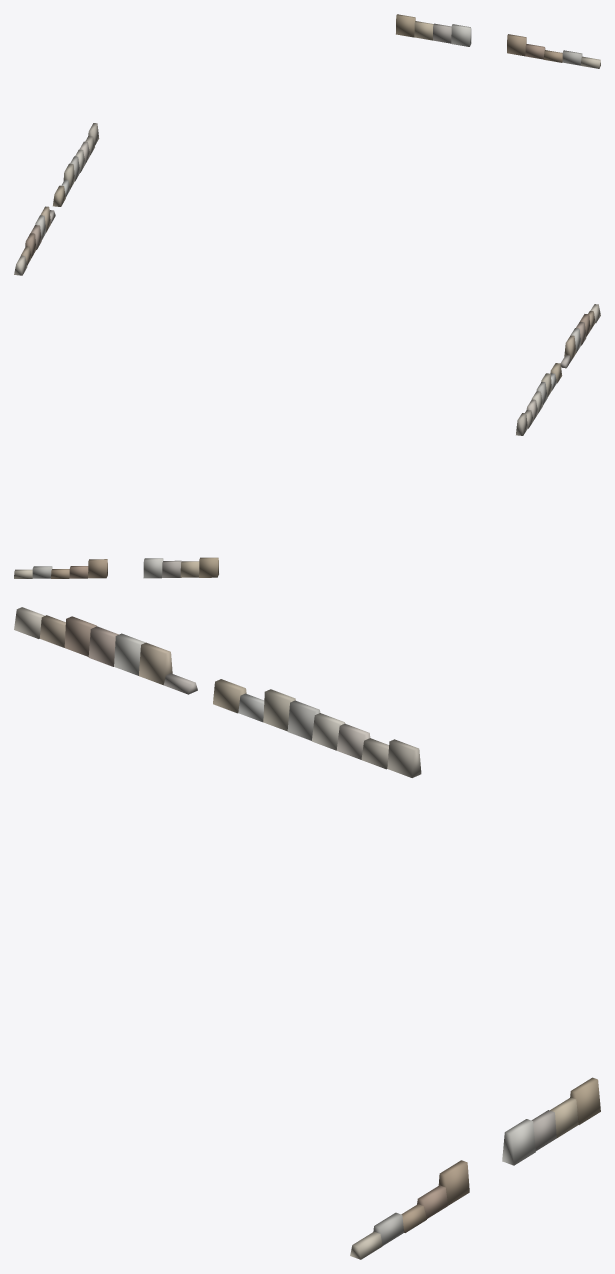
Rendered from farm_-50_-49_collision.glb.
The picture shows the model from 3 angles, top to bottom: view 1: azimuth 30°, elevation 25°; view 2: azimuth 210°, elevation 25°; view 3: azimuth 270°, elevation 25°; orthographic projection. The views are drawn at different scales.
Parts seen in each view (by area): view 1: geometry_0; view 2: geometry_0; view 3: geometry_0.
Boxes of the visible parts, left/top/right/bottom form: geometry_0: left=14, top=14, right=600, bottom=275; geometry_0: left=14, top=304, right=600, bottom=578; geometry_0: left=14, top=607, right=600, bottom=1259.
Bounding box in the file's own units: 63.03 × 4.45 × 26.63.
